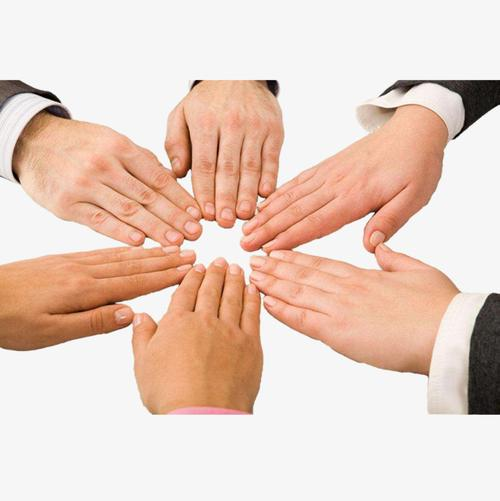no-phone: (246, 243, 461, 377), (242, 119, 445, 253), (13, 111, 204, 244), (3, 242, 197, 350), (132, 256, 266, 412), (163, 83, 284, 227)
